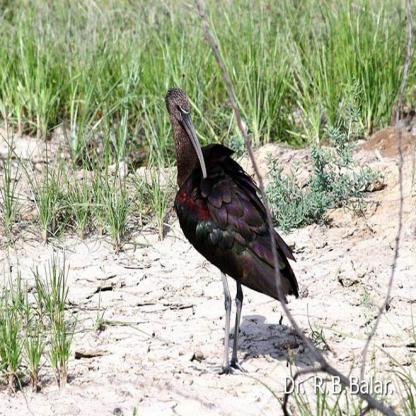Burung: (164, 87, 302, 368)
